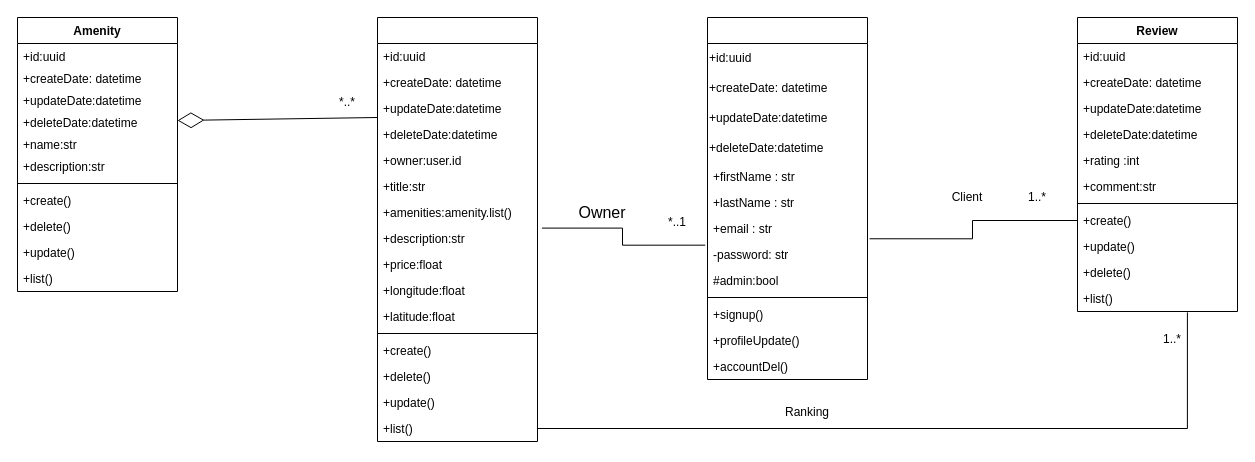
The diagram is 1255 pixels wide and 462 high, and some of its shapes have lost their labels. Here are the shapes that lost their labels. From the top down, the box of each, then its label:
(706, 16, 868, 380): User
(376, 16, 538, 442): Place
